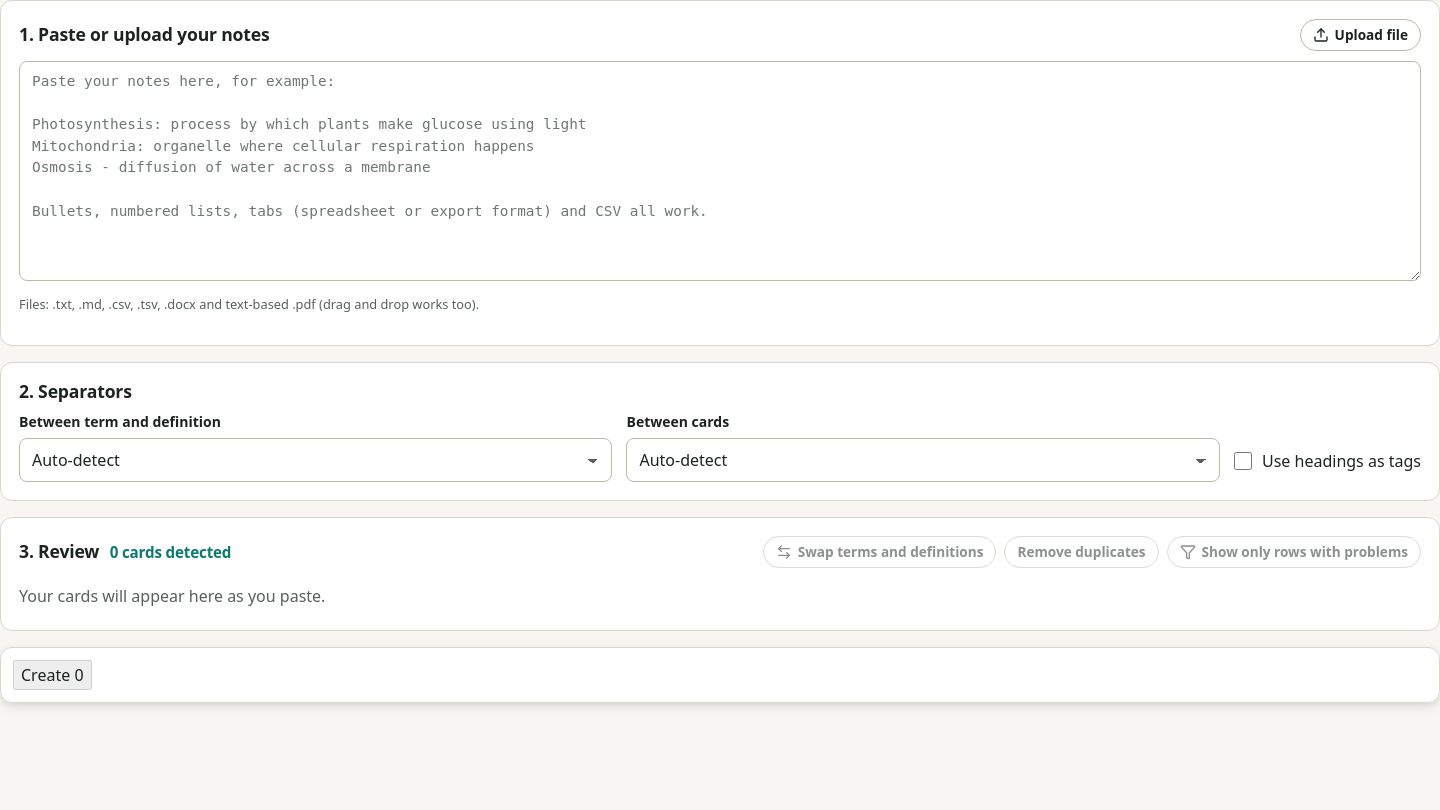
Test case: ImportFlow › switches separators explicitly
Replace the text in the text box with test id "import-text" with "a - b: c" at {"x": 720, "y": 171}, box [19, 61, 1421, 281]
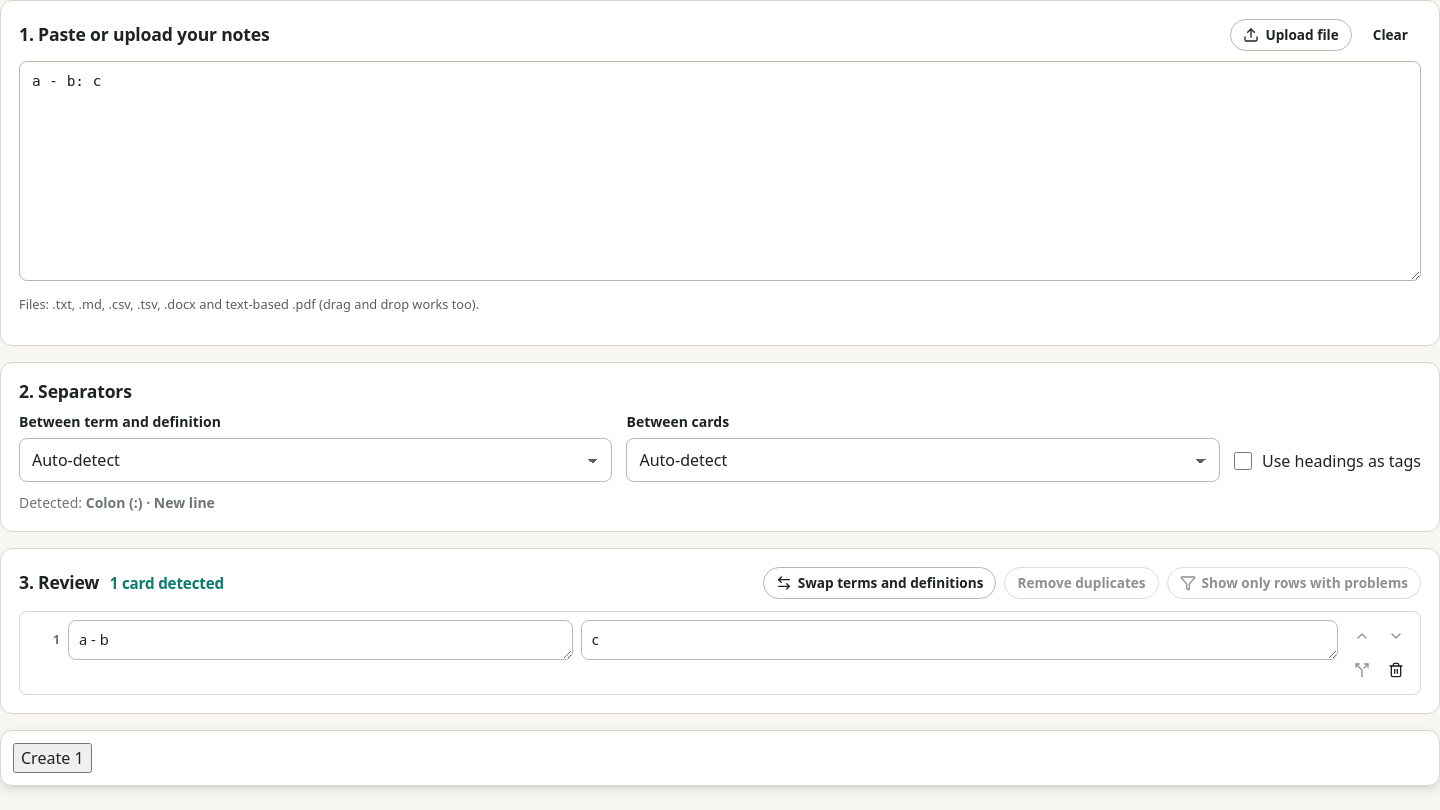
Check: the text box named "Term 1" holds "a - b", box [68, 620, 573, 660]
Select "Dash ( - / – / — )" in the dropdown labelled "Between term and definition" at {"x": 316, "y": 460}, box [19, 438, 612, 482]
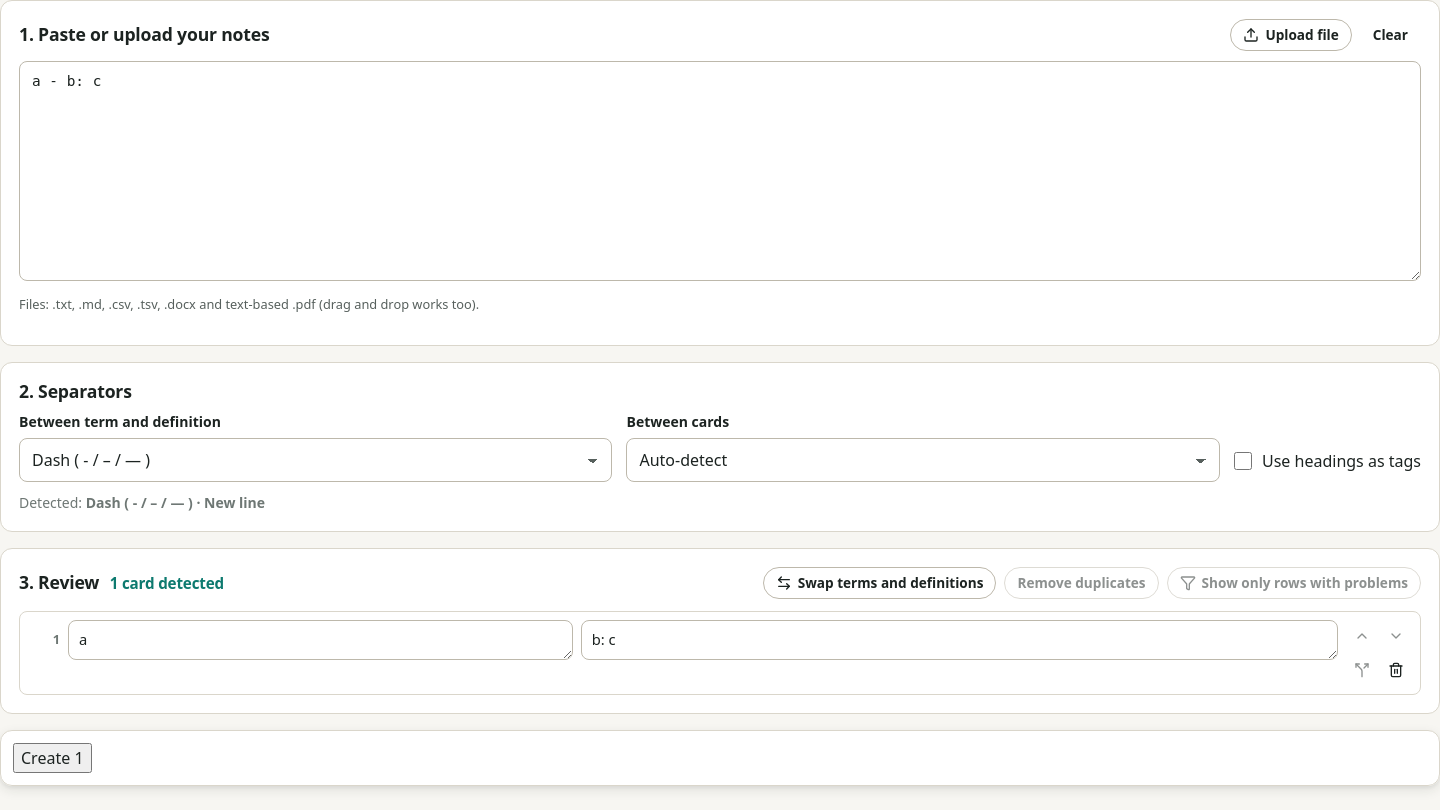
Check: the text box named "Term 1" holds "a", box [68, 620, 573, 660]
